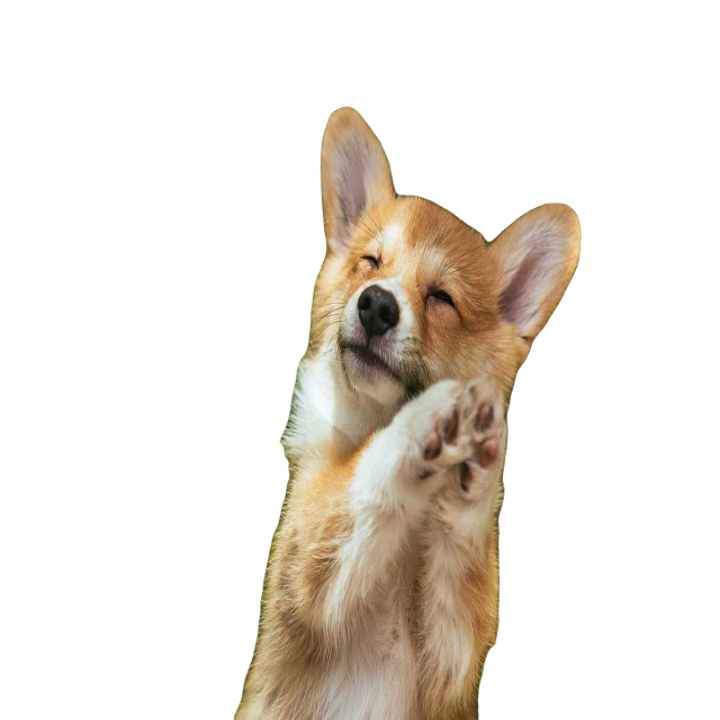Dog: (228, 99, 584, 719)
